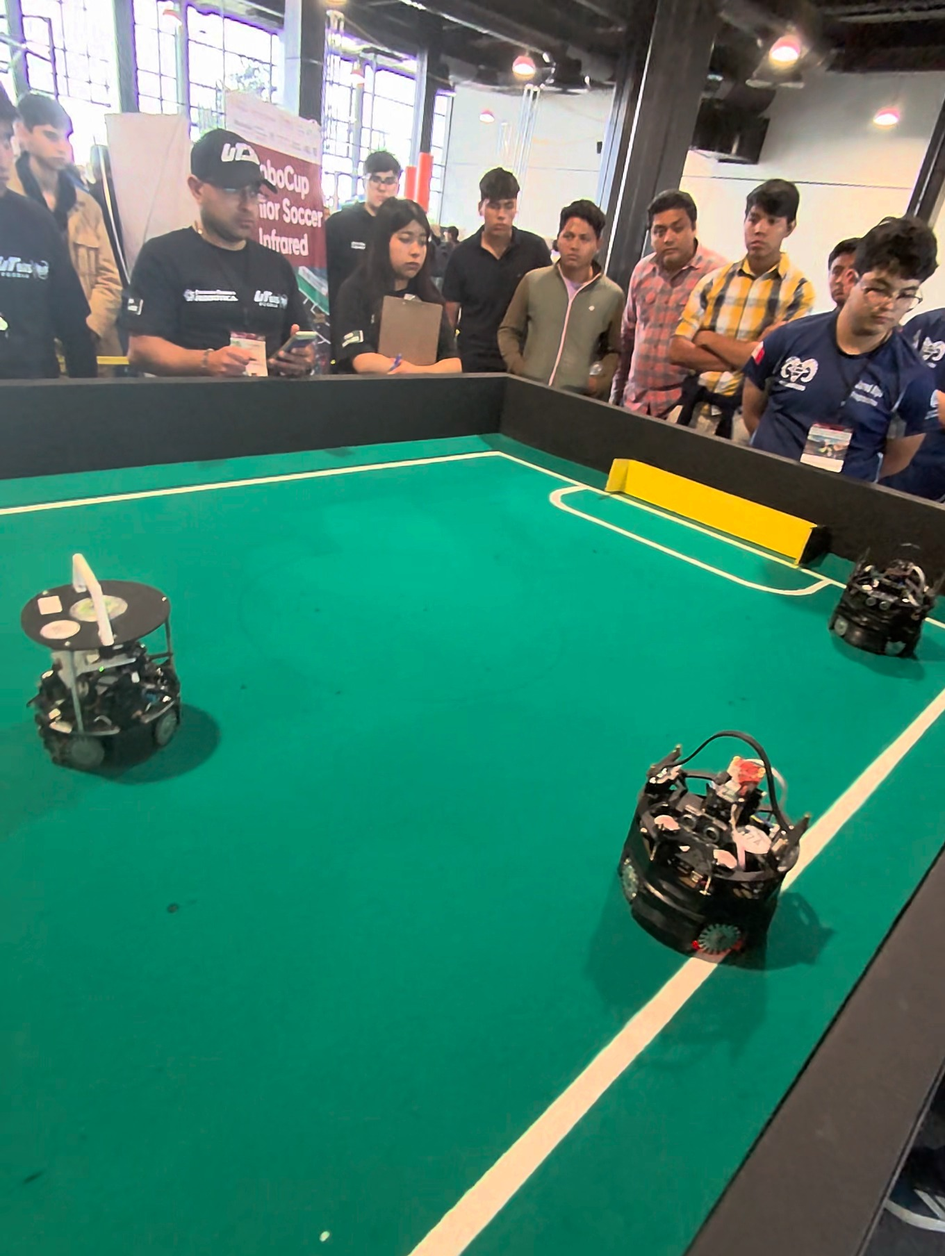Robot: (620, 718, 811, 975), (16, 540, 207, 784), (823, 540, 936, 669)
